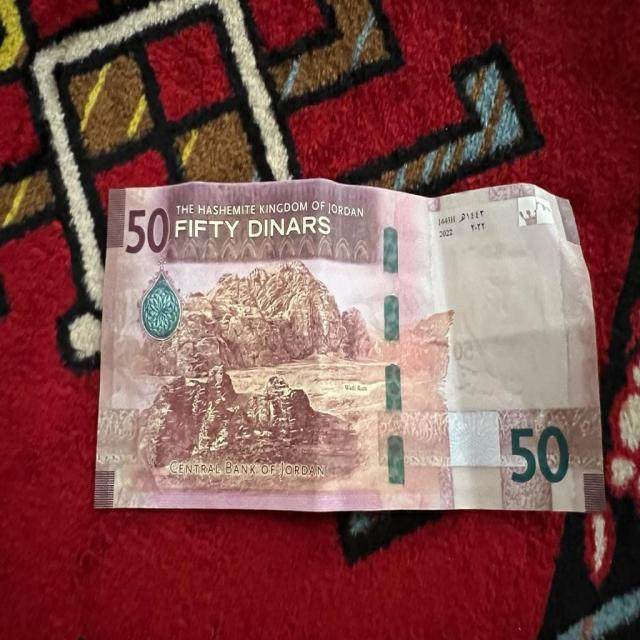50-dinar: (96, 181, 604, 513)
